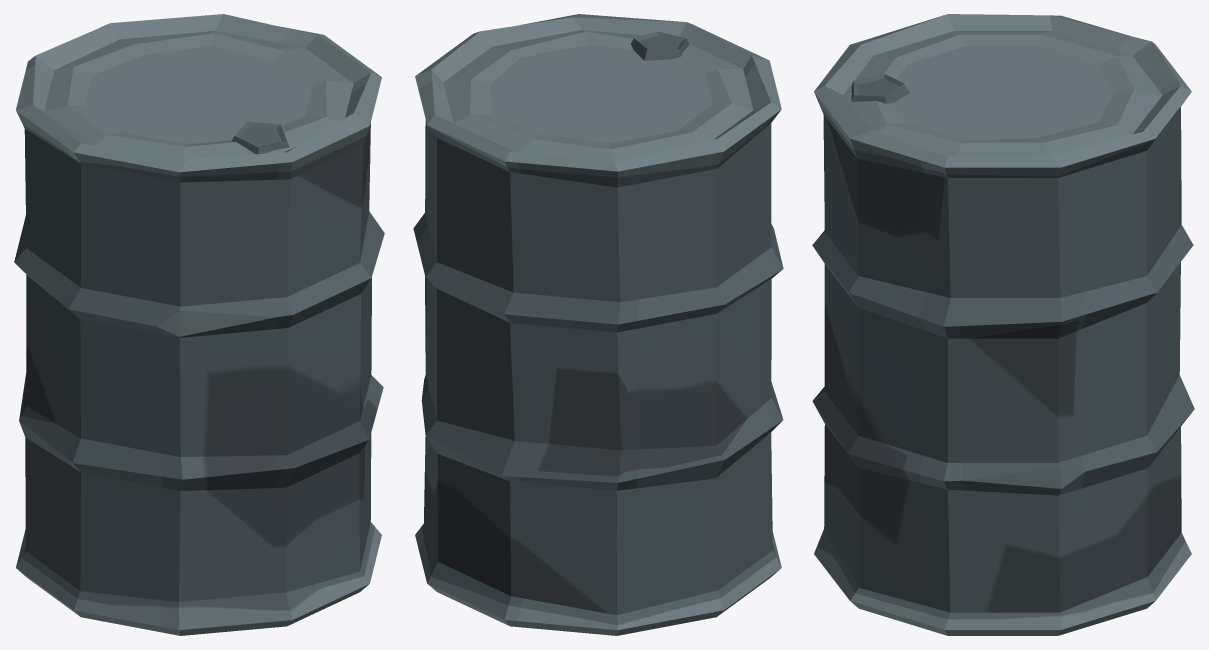
The model's file is SM_Barrel_A_02.fbx.
The picture shows the model from 3 angles, left to right: view 1: azimuth 30°, elevation 25°; view 2: azimuth 150°, elevation 25°; view 3: azimuth 270°, elevation 25°; orthographic projection.
Parts seen in each view (by area): view 1: SM_Barrel_A_02, SM_Lid_02; view 2: SM_Barrel_A_02, SM_Lid_02; view 3: SM_Barrel_A_02, SM_Lid_02.
Boxes of the visible parts, x1,y1,x2,y2 form: SM_Barrel_A_02: (14,14,384,635); SM_Lid_02: (44,30,353,159); SM_Barrel_A_02: (413,14,783,635); SM_Lid_02: (443,30,753,162); SM_Barrel_A_02: (812,14,1194,635); SM_Lid_02: (843,31,1162,156).
Bounding box in the file's own units: 62.44 × 90.35 × 65.19.
